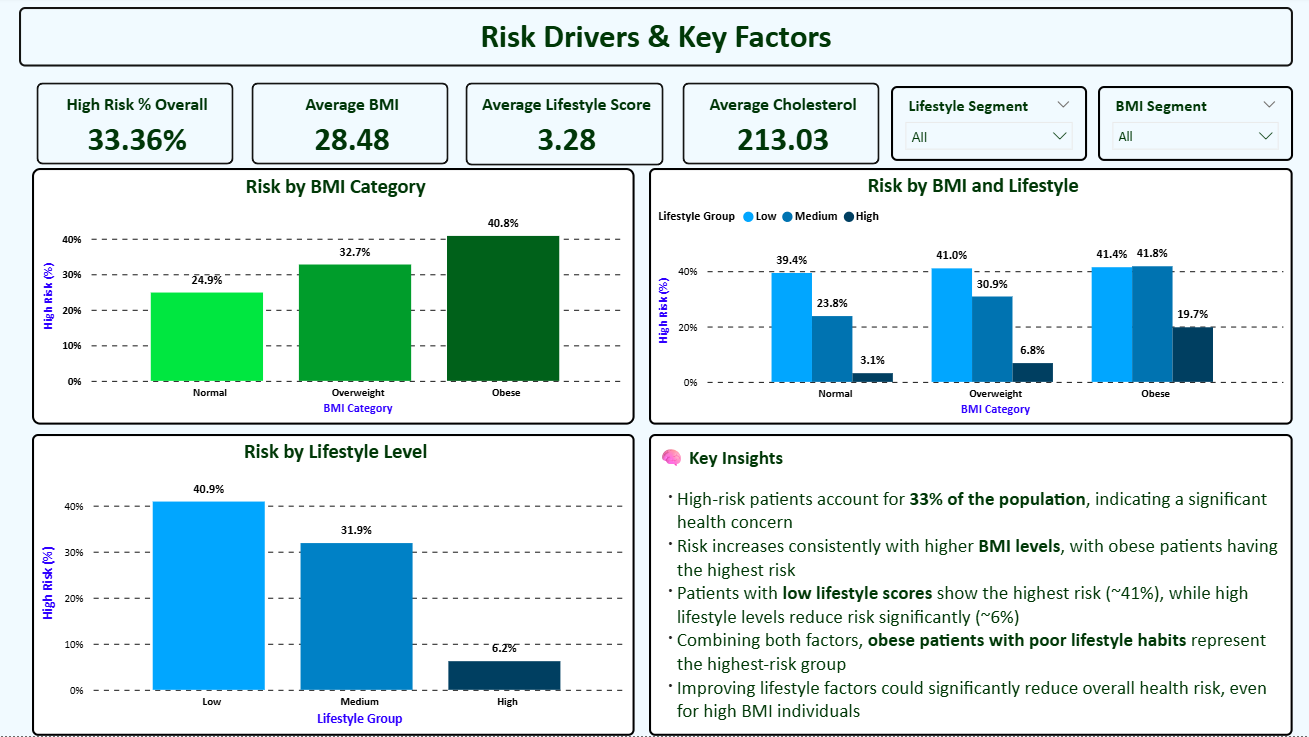

Layout of this report page (visuals, bound fields, positions):
{"tool":"powerbi","page":{"name":"Healthcare Risk Drivers Analysis","canvas":[1280,720],"ordinal":2},"visuals":[{"type":"textbox","box":[19.5,9.7,1241.1,58.4],"z":0},{"type":"cardVisual","fields":{"Data":["healthcare_cleaned.High Risk % Overall"]},"box":[19.5,66.1,226.6,114.8],"z":1000},{"type":"cardVisual","fields":{"Data":["Avg(healthcare_cleaned.Lifestyle Score)"]},"box":[437.7,66.1,227.6,115.7],"z":2000},{"type":"cardVisual","fields":{"Data":["Avg(healthcare_cleaned.BMI)"]},"box":[228.6,66.1,226.6,114.8],"z":3000},{"type":"cardVisual","fields":{"Data":["Avg(healthcare_cleaned.Cholesterol)"]},"box":[648.8,66.1,226.6,114.8],"z":4000},{"type":"clusteredColumnChart","title":"Risk by BMI Category","fields":{"Category":["healthcare_cleaned.BMI_Category"],"Y":["healthcare_cleaned.High Risk % Overall"]},"box":[32.1,166.6,587.4,250.4],"z":5000},{"type":"clusteredColumnChart","title":"Risk by Lifestyle Level","fields":{"Category":["healthcare_cleaned.Lifestyle Group"],"Y":["healthcare_cleaned.High Risk % Overall"]},"box":[32.1,425.7,587.4,294.2],"z":6000},{"type":"clusteredColumnChart","title":"Risk by BMI and Lifestyle","fields":{"Category":["healthcare_cleaned.BMI_Category"],"Series":["healthcare_cleaned.Lifestyle Group"],"Y":["healthcare_cleaned.High Risk % Overall"]},"box":[633.2,166.6,627.3,250.4],"z":6001},{"type":"textbox","box":[633.2,425.7,627.3,294.2],"z":6002},{"type":"slicer","fields":{"Values":["healthcare_cleaned.Lifestyle Group"]},"box":[868.9,86.7,190.9,73.1],"z":6003},{"type":"slicer","fields":{"Values":["healthcare_cleaned.BMI_Category"]},"box":[1070.6,86.7,190,73.1],"z":6004}]}

Visuals, with their boxes in screenshot pixels (x1, y1, x2, y2), scaled from the page's 1280x720 canvas onto the 1309x737 screenshot:
textbox: pyautogui.locateOnScreen(20, 10, 1289, 70)
cardVisual - healthcare_cleaned.High Risk % Overall: pyautogui.locateOnScreen(20, 68, 252, 185)
cardVisual - Avg(healthcare_cleaned.Lifestyle Score): pyautogui.locateOnScreen(448, 68, 680, 186)
cardVisual - Avg(healthcare_cleaned.BMI): pyautogui.locateOnScreen(234, 68, 466, 185)
cardVisual - Avg(healthcare_cleaned.Cholesterol): pyautogui.locateOnScreen(663, 68, 895, 185)
"Risk by BMI Category" clusteredColumnChart: pyautogui.locateOnScreen(33, 171, 634, 427)
"Risk by Lifestyle Level" clusteredColumnChart: pyautogui.locateOnScreen(33, 436, 634, 736)
"Risk by BMI and Lifestyle" clusteredColumnChart: pyautogui.locateOnScreen(648, 171, 1289, 427)
textbox: pyautogui.locateOnScreen(648, 436, 1289, 736)
slicer - healthcare_cleaned.Lifestyle Group: pyautogui.locateOnScreen(889, 89, 1084, 164)
slicer - healthcare_cleaned.BMI_Category: pyautogui.locateOnScreen(1095, 89, 1289, 164)
